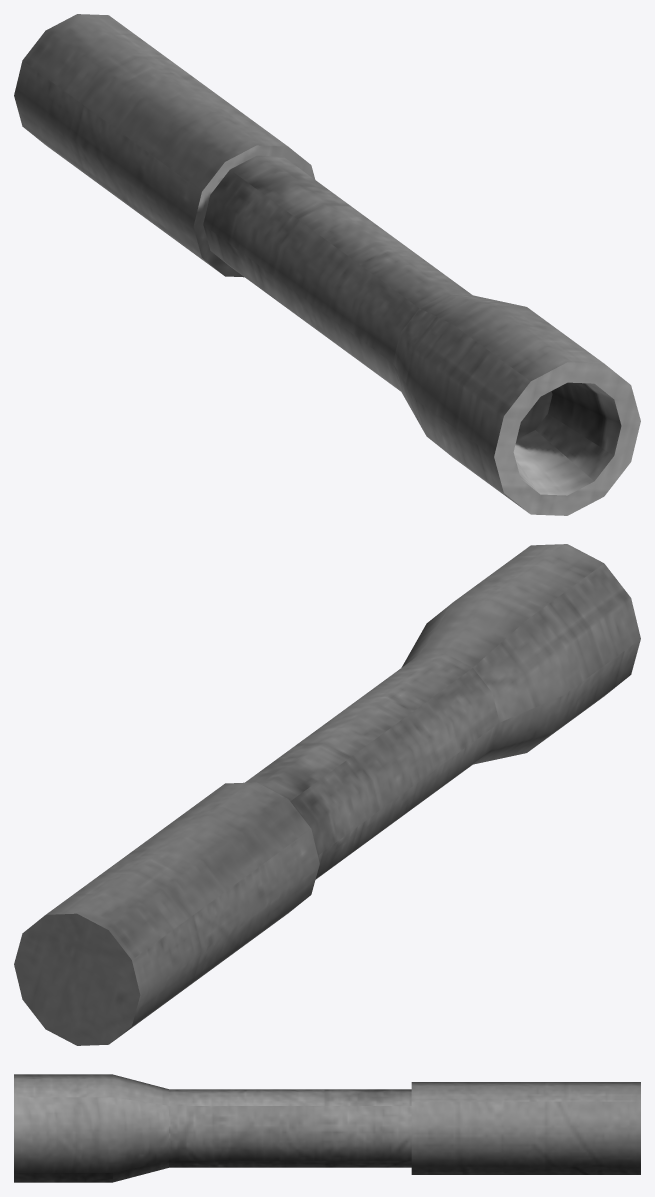
Rendered from barrel.obj.
3 views of the same model, one above another, from view 1: azimuth 30°, elevation 25°; view 2: azimuth 150°, elevation 25°; view 3: azimuth 270°, elevation 25° (orthographic). The views are drawn at different scales.
Visible parts, largest first — view 1: Cylinder001; view 2: Cylinder001; view 3: Cylinder001.
Part boxes in pixels (<box>): Cylinder001: <box>14,14,640,515</box>; Cylinder001: <box>14,544,640,1045</box>; Cylinder001: <box>14,1074,640,1182</box>.
Bounding box in the file's own units: 3.07 × 3.07 × 17.74.
1 material, 1 textured.
